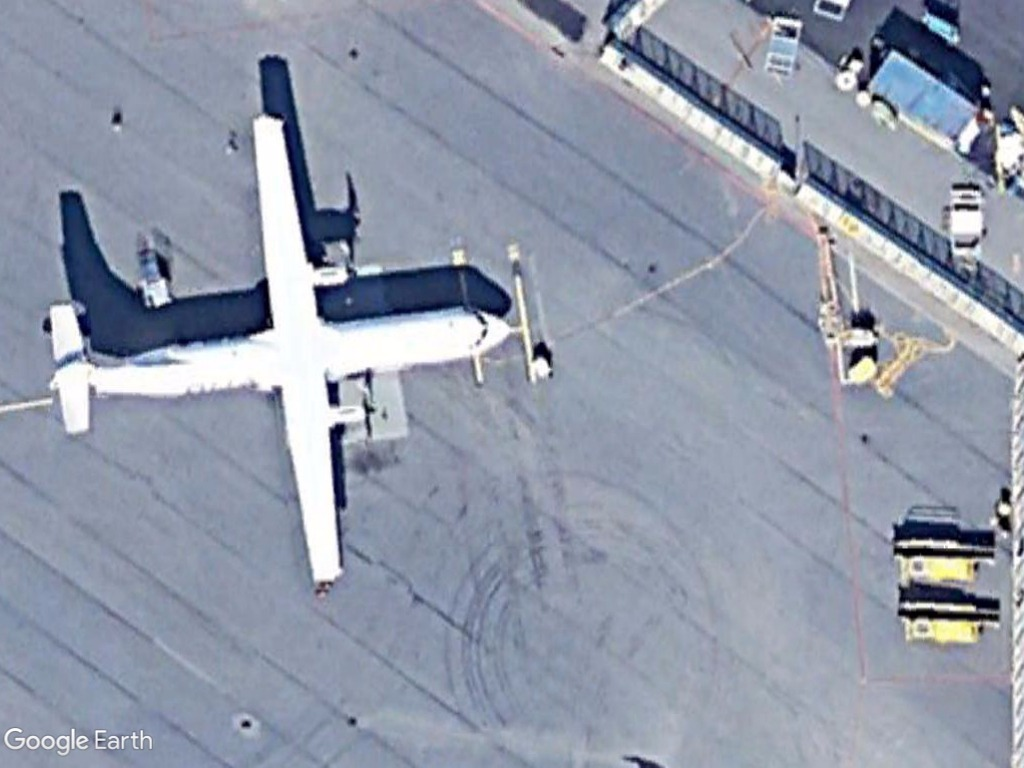propeller: (43, 104, 520, 601)
